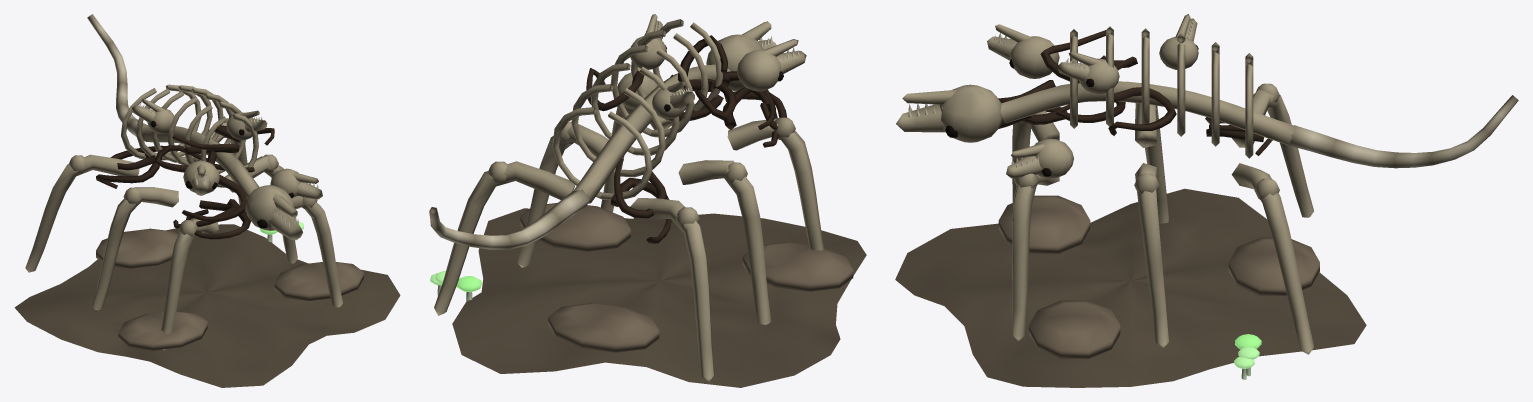
The model's file is rootgnawer.glb.
The picture shows the model from 3 angles, left to right: view 1: azimuth 30°, elevation 25°; view 2: azimuth 150°, elevation 25°; view 3: azimuth 270°, elevation 25°; orthographic projection. The views are drawn at different scales.
Visible parts, largest first — view 1: rootgnawer-body; view 2: rootgnawer-body, rootgnawer-glow; view 3: rootgnawer-body, rootgnawer-glow.
Part boxes in pixels (x1,y1,x2,y2): rootgnawer-body: [14, 14, 400, 387]; rootgnawer-body: [429, 14, 866, 387]; rootgnawer-glow: [430, 271, 481, 292]; rootgnawer-body: [895, 14, 1518, 387]; rootgnawer-glow: [1234, 334, 1261, 368].
Size of the model in its own units: 0.5882 by 0.3749 by 0.778.
